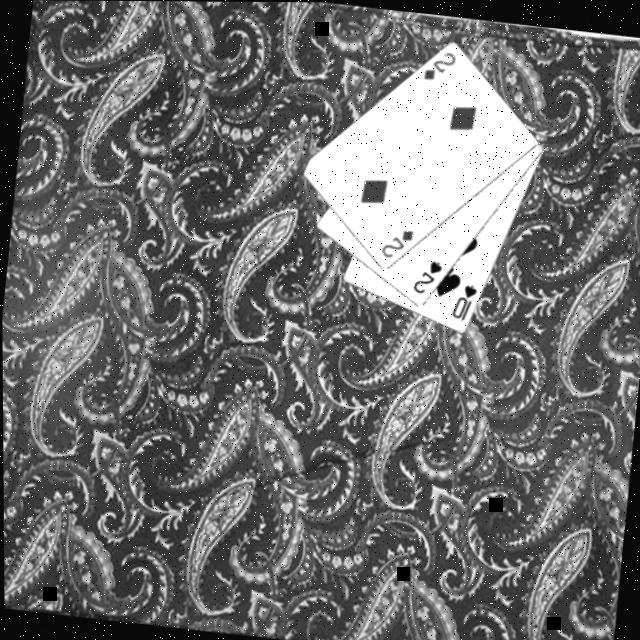10S: (446, 276, 478, 322)
2D: (418, 44, 457, 83), (375, 222, 414, 260)
2S: (407, 252, 443, 296)
